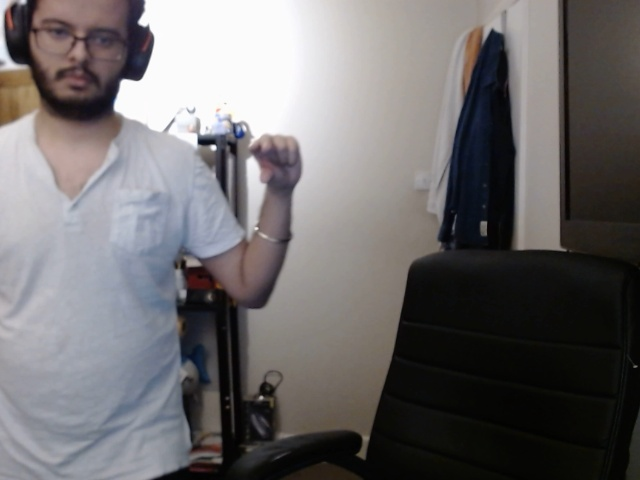No: (236, 131, 311, 191)
